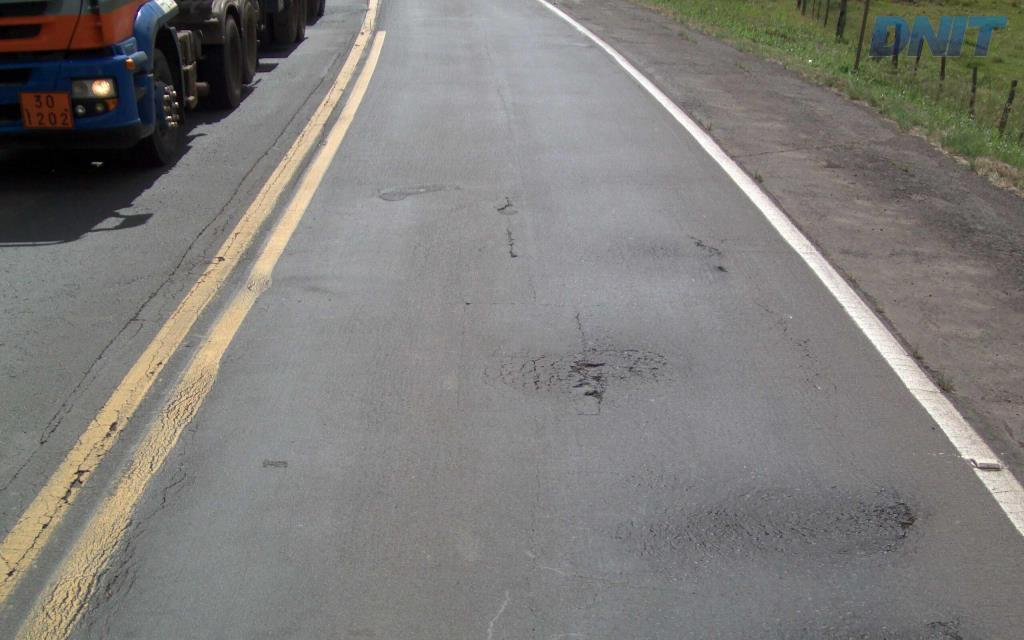crack: (519, 338, 617, 404), (846, 501, 917, 553), (610, 348, 667, 382), (711, 507, 744, 551)
